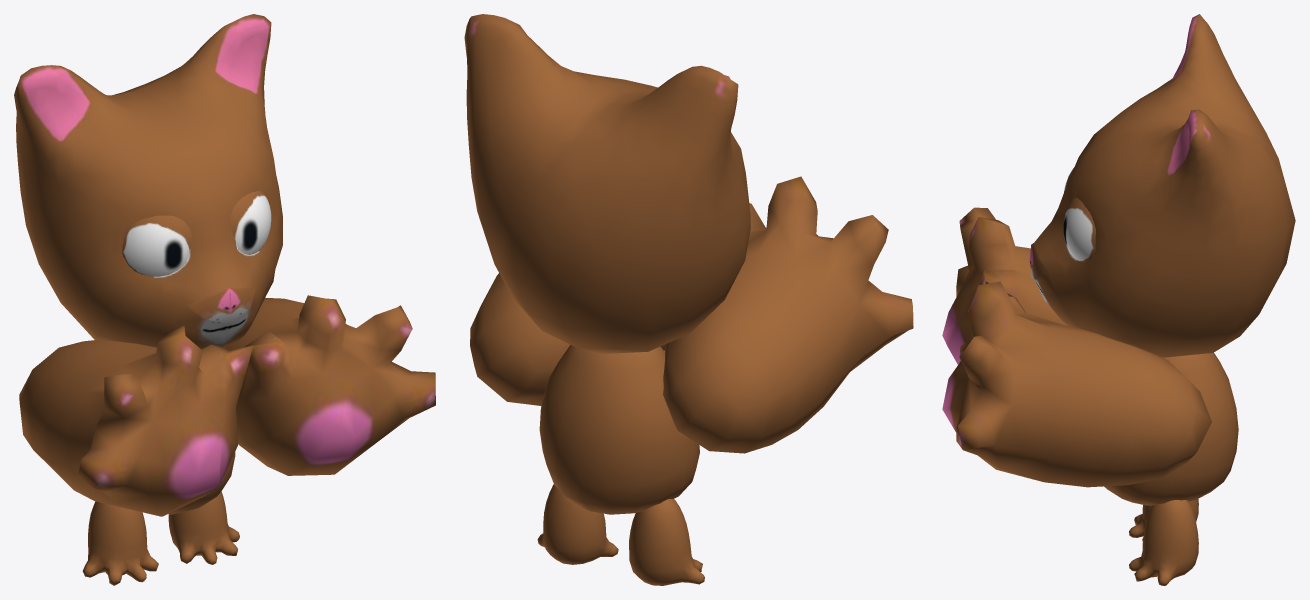
The model's file is Gatito-Grande.glb.
The picture shows the model from 3 angles, left to right: view 1: azimuth 30°, elevation 25°; view 2: azimuth 150°, elevation 25°; view 3: azimuth 270°, elevation 25°; orthographic projection. The views are drawn at different scales.
Visible parts, largest first — view 1: Gato:Gato:polySurface6.001, polySurface18.001; view 2: Gato:Gato:polySurface6.001, polySurface18.001; view 3: Gato:Gato:polySurface6.001, polySurface18.001.
Boxes of the visible parts, x1=… form: Gato:Gato:polySurface6.001: x1=14, y1=14, x2=282, y2=585; polySurface18.001: x1=19, y1=295, x2=435, y2=516; Gato:Gato:polySurface6.001: x1=464, y1=14, x2=750, y2=585; polySurface18.001: x1=470, y1=176, x2=913, y2=453; Gato:Gato:polySurface6.001: x1=1029, y1=14, x2=1295, y2=585; polySurface18.001: x1=942, y1=207, x2=1211, y2=487.
Bounding box in the file's own units: 4.87 × 6.6 × 4.33.
3 materials, 3 textured.
